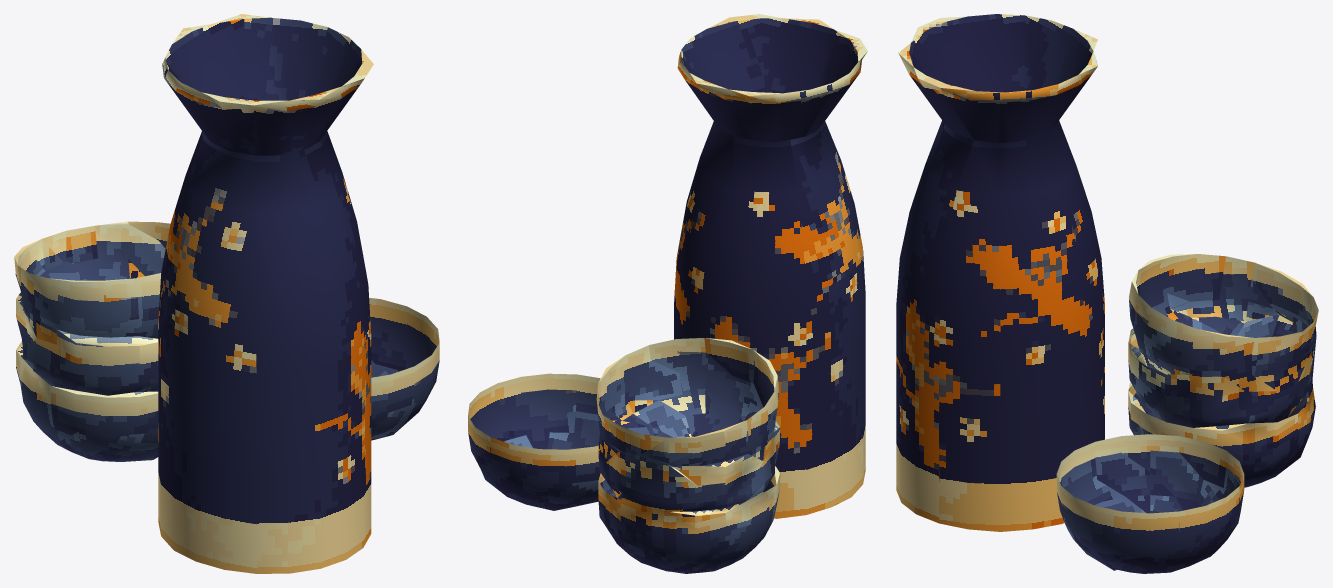
File: sake_set2.glb
3 renders of one model, left to right at view 1: azimuth 30°, elevation 25°; view 2: azimuth 150°, elevation 25°; view 3: azimuth 270°, elevation 25°, orthographic. The views are drawn at different scales.
Visible parts, largest first — view 1: mesh; view 2: mesh; view 3: mesh.
Boxes of the visible parts, x1,y1,x2,y2 form: mesh: (14, 14, 439, 573); mesh: (468, 14, 867, 573); mesh: (896, 14, 1318, 573).
Size of the model in its own units: 0.1196 by 0.15 by 0.1312.
Materials: 1 (1 with a texture image).
